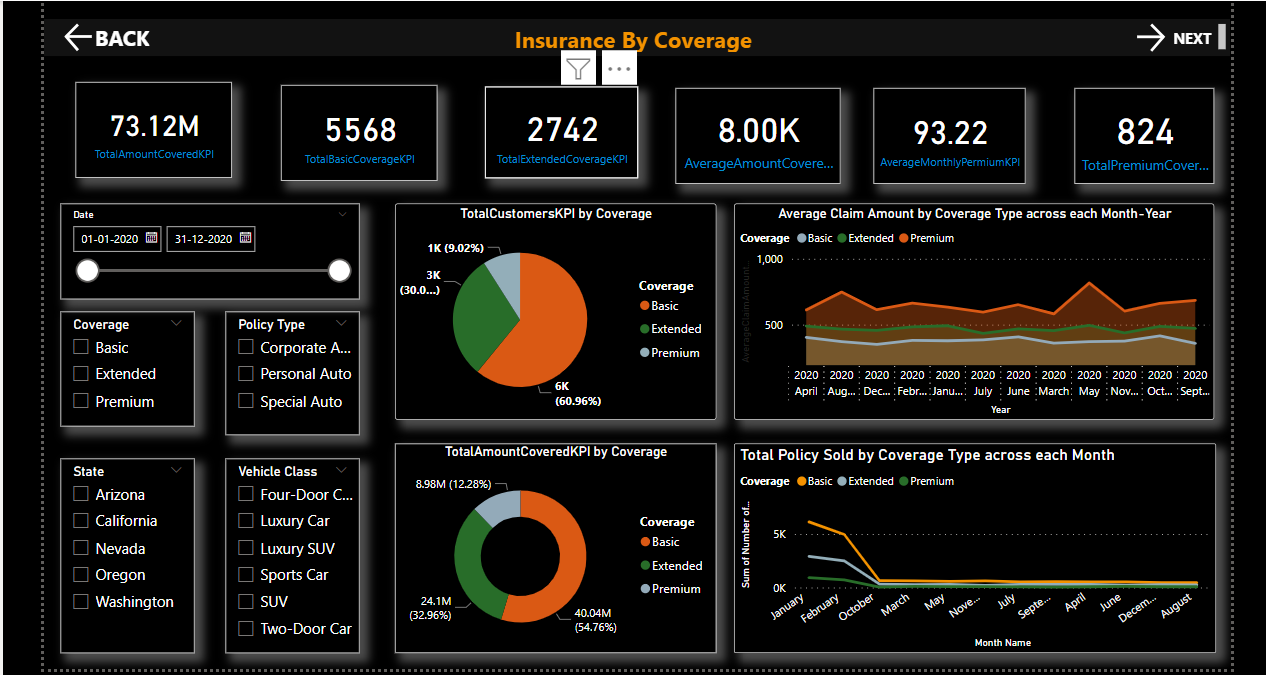

What the dashboard file says about the page in this screenshot:
{"tool":"powerbi","page":{"name":"Insurance By Coverage","canvas":[1280,720],"ordinal":1},"visuals":[{"type":"textbox","box":[0,19.1,1279.5,39.7],"z":0},{"type":"card","fields":{"Values":["AutoInsurance.TotalAmountCoveredKPI"]},"box":[33.4,87.4,168.5,103.3],"z":1000},{"type":"card","fields":{"Values":["AutoInsurance.TotalBasicCoverageKPI"]},"box":[255.9,90.6,168.5,103.3],"z":2000},{"type":"card","fields":{"Values":["AutoInsurance.TotalExtendedCoverageKPI"]},"box":[475.2,92.2,165.3,98.5],"z":3000},{"type":"card","fields":{"Values":["AutoInsurance.AverageAmountCoveredKPI"]},"box":[681.9,93.8,178,103.3],"z":4000},{"type":"card","fields":{"Values":["AutoInsurance.AverageMonthlyPermiumKPI"]},"box":[894.8,93.8,163.7,103.3],"z":5000},{"type":"card","fields":{"Values":["AutoInsurance.TotalPremiumCoverageKPI"]},"box":[1111,93.8,151,103.3],"z":6000},{"type":"pieChart","fields":{"Y":["AutoInsurance.TotalCustomersKPI"],"Series":["AutoInsurance.Coverage"]},"box":[378.3,217.7,346.5,233.6],"z":7000},{"type":"donutChart","fields":{"Y":["AutoInsurance.TotalAmountCoveredKPI"],"Series":["AutoInsurance.Coverage"]},"box":[378.3,476.8,346.5,225.7],"z":8000},{"type":"areaChart","title":"Average Claim Amount by Coverage Type across each Month-Year","fields":{"Series":["AutoInsurance.Coverage"],"Category":["Date_Table.Month Name","Date_Table.Year"],"Y":["AutoInsurance.AverageClaimAmountKPI"]},"box":[743.8,217.7,518.1,233.6],"z":9000},{"type":"lineChart","title":"Total Policy Sold by Coverage Type across each Month","fields":{"Category":["Date_Table.Month Name"],"Y":["Sum(AutoInsurance.Number of Policies)"],"Series":["AutoInsurance.Coverage"]},"box":[743.8,476.8,519.7,225.7],"z":10000},{"type":"slicer","fields":{"Values":["AutoInsurance.Coverage"]},"box":[17.5,335.4,144.6,124],"z":11000},{"type":"slicer","fields":{"Values":["AutoInsurance.Policy Type"]},"box":[195.5,335.4,144.6,133.5],"z":12000},{"type":"slicer","fields":{"Values":["AutoInsurance.State"]},"box":[17.5,492.7,144.6,209.8],"z":13000},{"type":"slicer","fields":{"Values":["AutoInsurance.Vehicle Class"]},"box":[195.5,492.7,144.6,209.8],"z":14000},{"type":"actionButton","box":[1173,19.4,90.6,40.4],"z":15000},{"type":"actionButton","box":[17.5,19.1,100.1,39.7],"z":16000},{"type":"slicer","fields":{"Values":["Date_Table.Date"]},"box":[17.5,217.7,322.6,103.3],"z":17000}]}

Visuals, with their boxes on the page's 1280x720 design canvas (x1, y1, x2, y2). These are canvas units, not pixel positions in the 1266x675 screenshot, which may show the page scaled, cropped or inside an application window:
textbox: select_region(0, 19, 1280, 59)
card - AutoInsurance.TotalAmountCoveredKPI: select_region(33, 87, 202, 191)
card - AutoInsurance.TotalBasicCoverageKPI: select_region(256, 91, 424, 194)
card - AutoInsurance.TotalExtendedCoverageKPI: select_region(475, 92, 640, 191)
card - AutoInsurance.AverageAmountCoveredKPI: select_region(682, 94, 860, 197)
card - AutoInsurance.AverageMonthlyPermiumKPI: select_region(895, 94, 1058, 197)
card - AutoInsurance.TotalPremiumCoverageKPI: select_region(1111, 94, 1262, 197)
pieChart - AutoInsurance.TotalCustomersKPI x AutoInsurance.Coverage: select_region(378, 218, 725, 451)
donutChart - AutoInsurance.TotalAmountCoveredKPI x AutoInsurance.Coverage: select_region(378, 477, 725, 702)
"Average Claim Amount by Coverage Type across each Month-Year" areaChart: select_region(744, 218, 1262, 451)
"Total Policy Sold by Coverage Type across each Month" lineChart: select_region(744, 477, 1264, 702)
slicer - AutoInsurance.Coverage: select_region(18, 335, 162, 459)
slicer - AutoInsurance.Policy Type: select_region(196, 335, 340, 469)
slicer - AutoInsurance.State: select_region(18, 493, 162, 702)
slicer - AutoInsurance.Vehicle Class: select_region(196, 493, 340, 702)
actionButton: select_region(1173, 19, 1264, 60)
actionButton: select_region(18, 19, 118, 59)
slicer - Date_Table.Date: select_region(18, 218, 340, 321)
